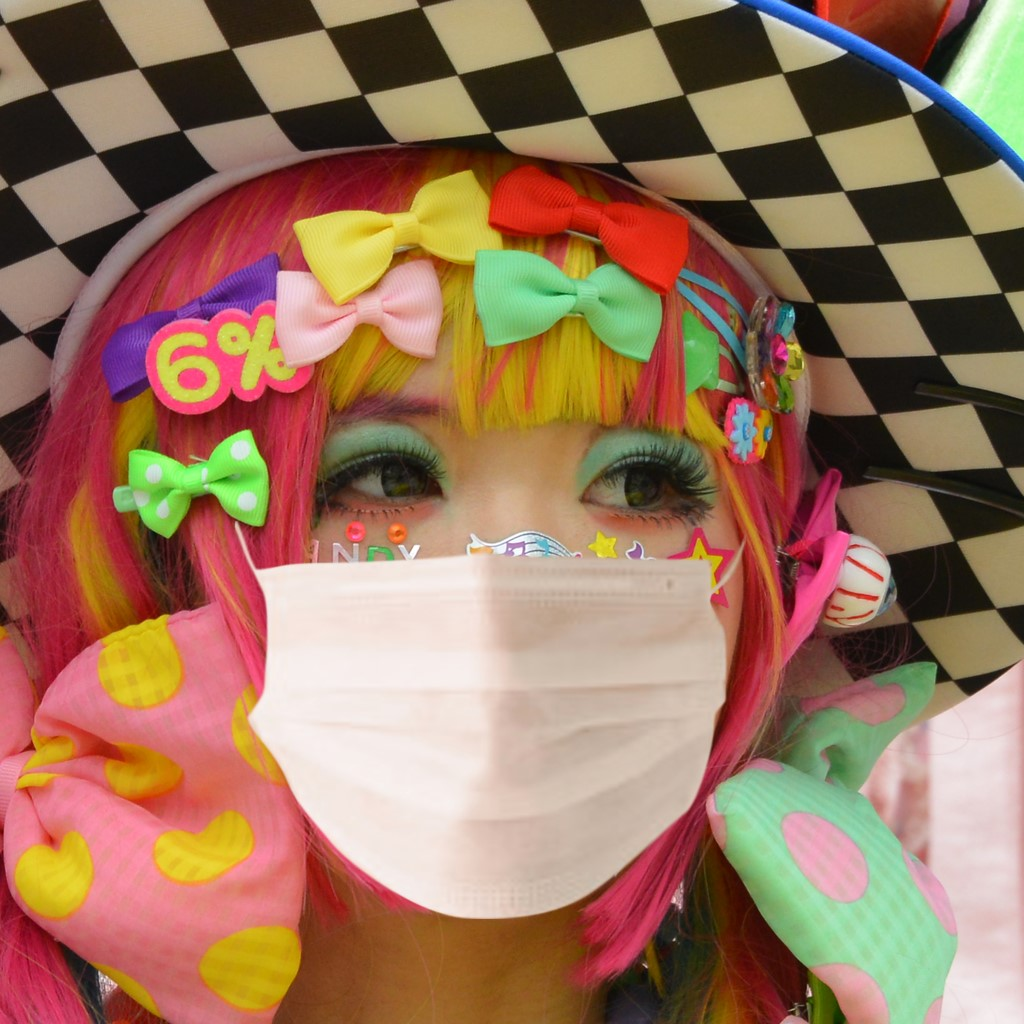con_mascara: (209, 203, 730, 908)
